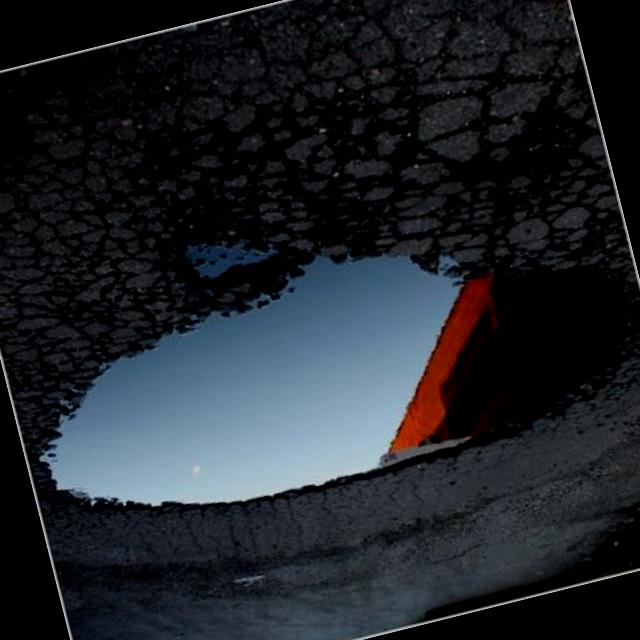pothole: (9, 182, 640, 562)
